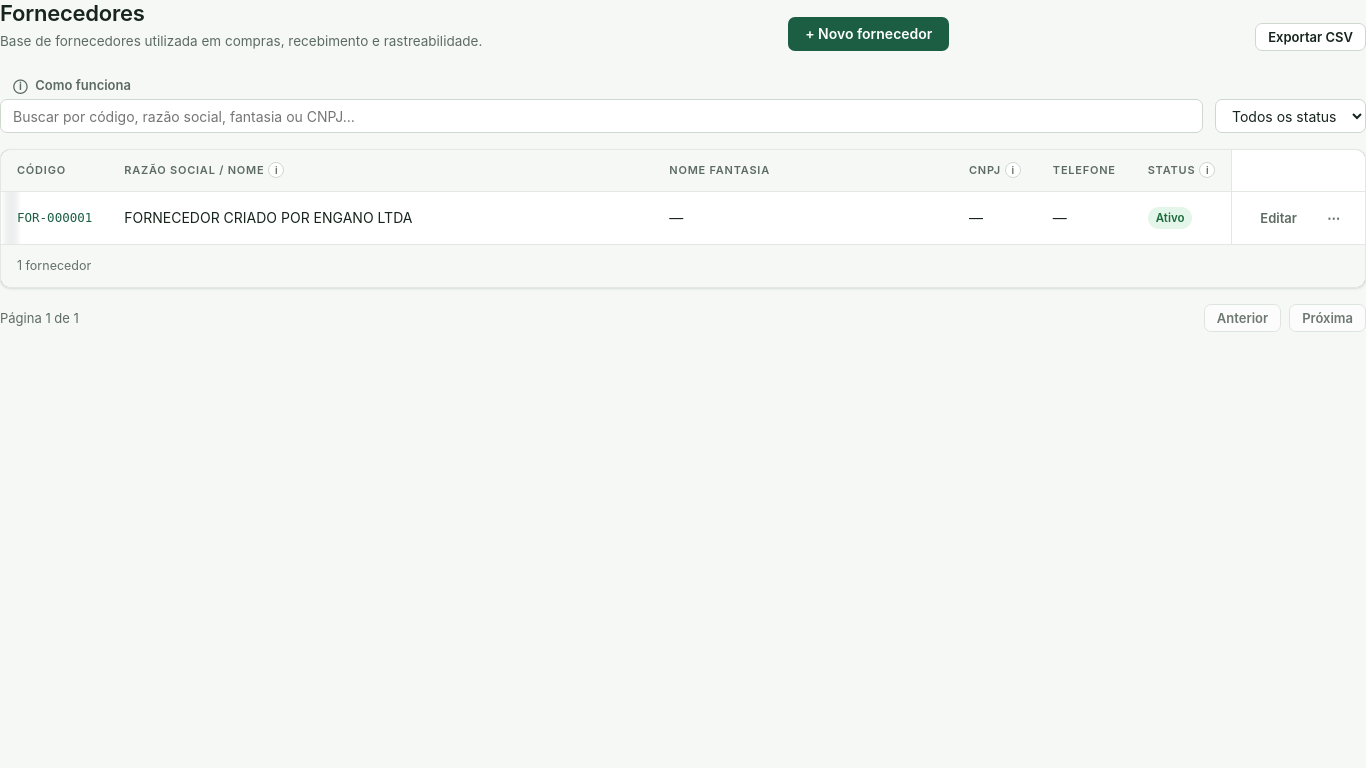
Administrador › liberado: motivo, exclusão, aviso e lista recarregada
The width and height of the screenshot is (1366, 768).
Expected: the text "FOR-000001" is shown, [1,192,108,244]
Click the button named "Mais ações de FOR-000001" at (1334, 218), box [1318,204,1349,232]
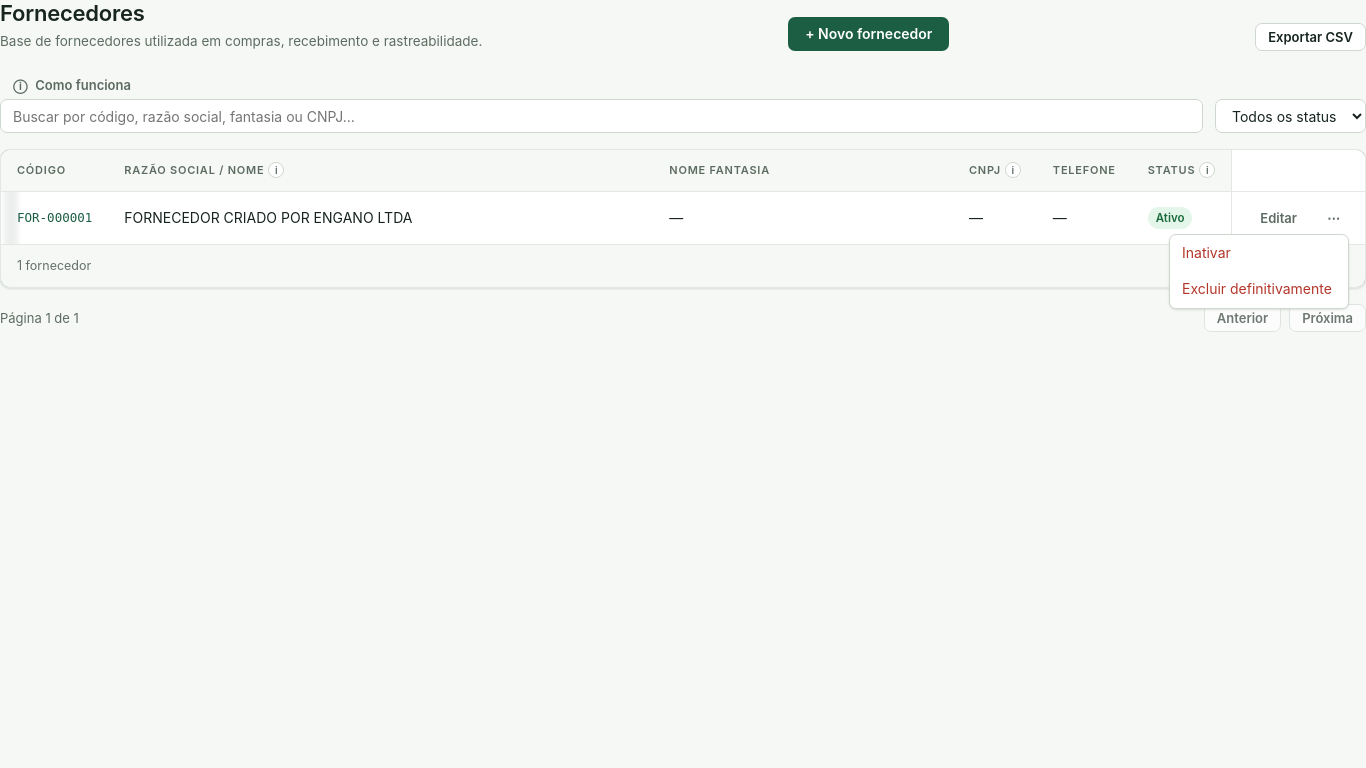
Click the menu item "Excluir definitivamente" at (1259, 289), box [1170,271,1348,308]
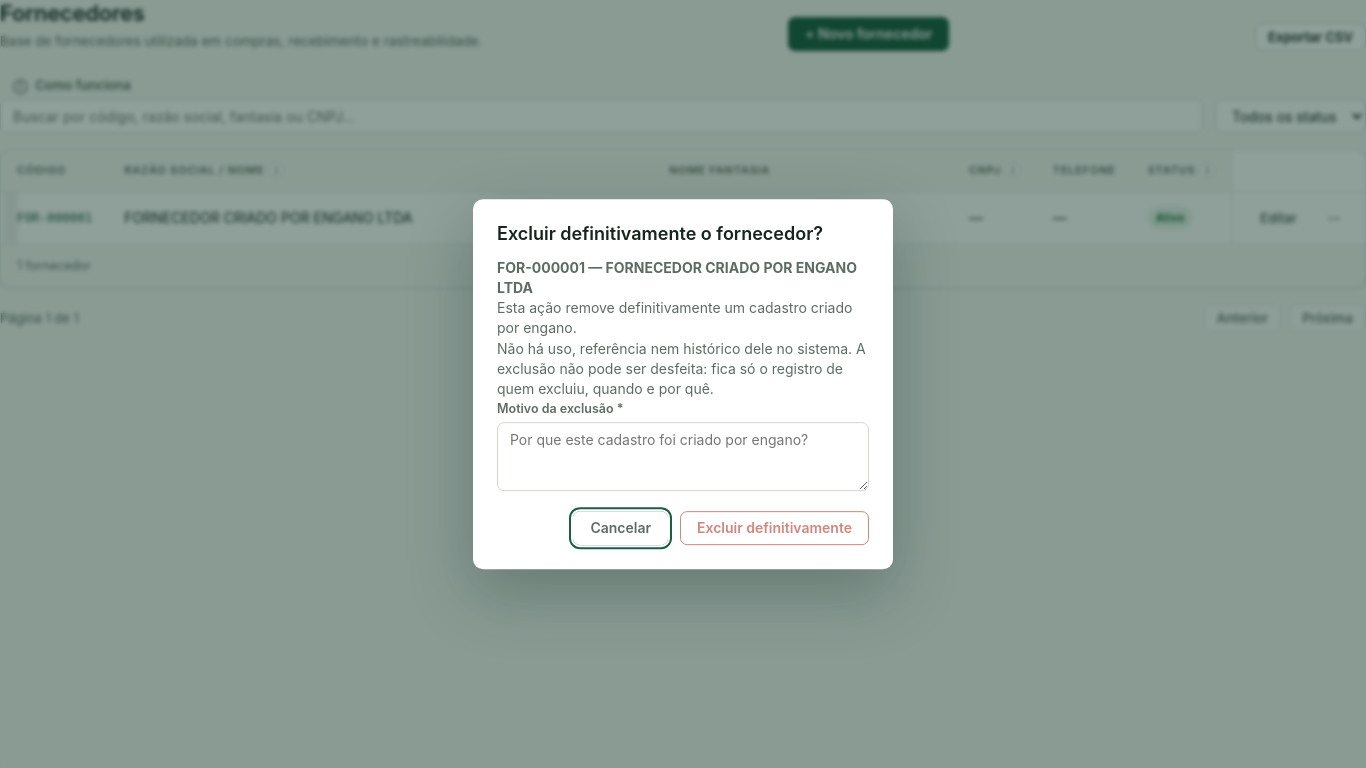
Result: the text "Esta ação remove definitivamente um cadastro criado por engano." is shown at [497,298,869,339]
Type "Cadastrado em duplicidade" into the text box labelled "Motivo da exclusão *" at (683, 456), box [497,422,869,491]
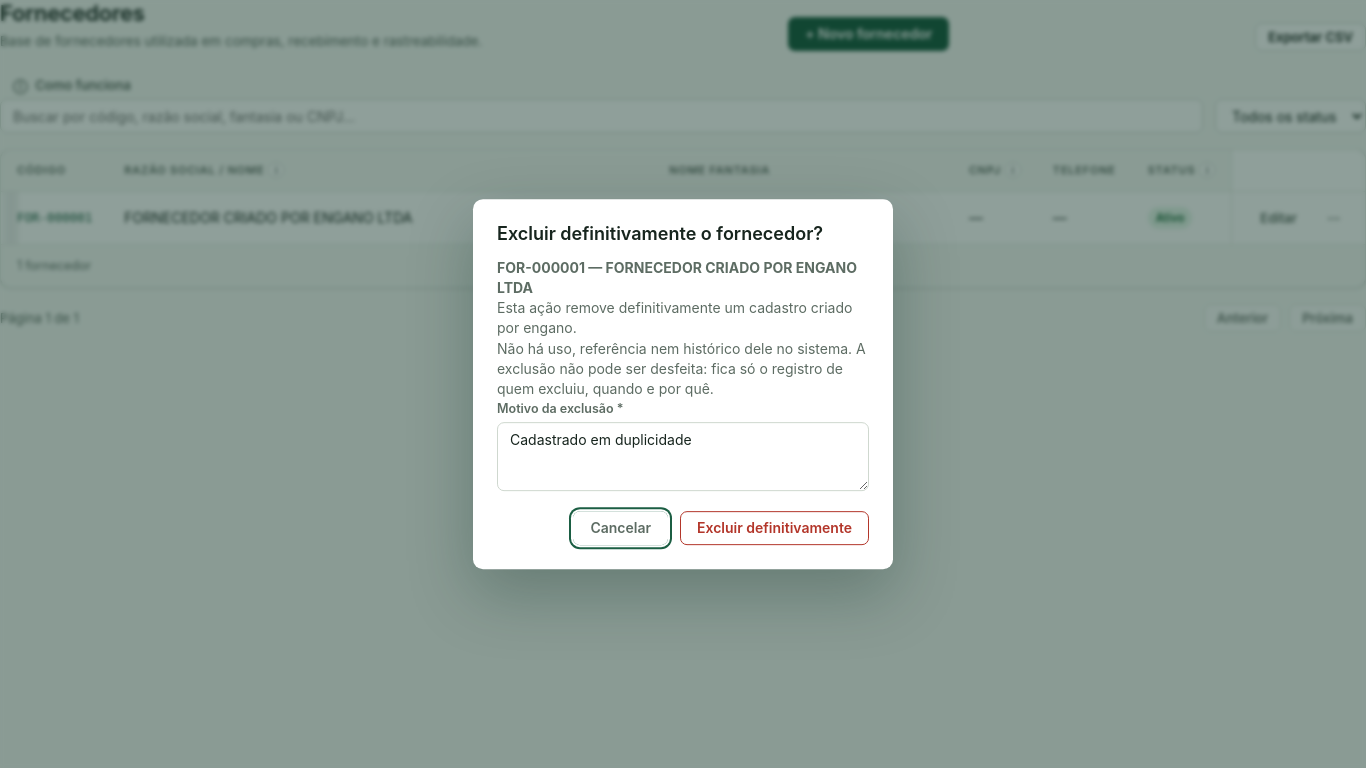
Click the button "Excluir definitivamente" at (774, 528), box [680,511,869,545]
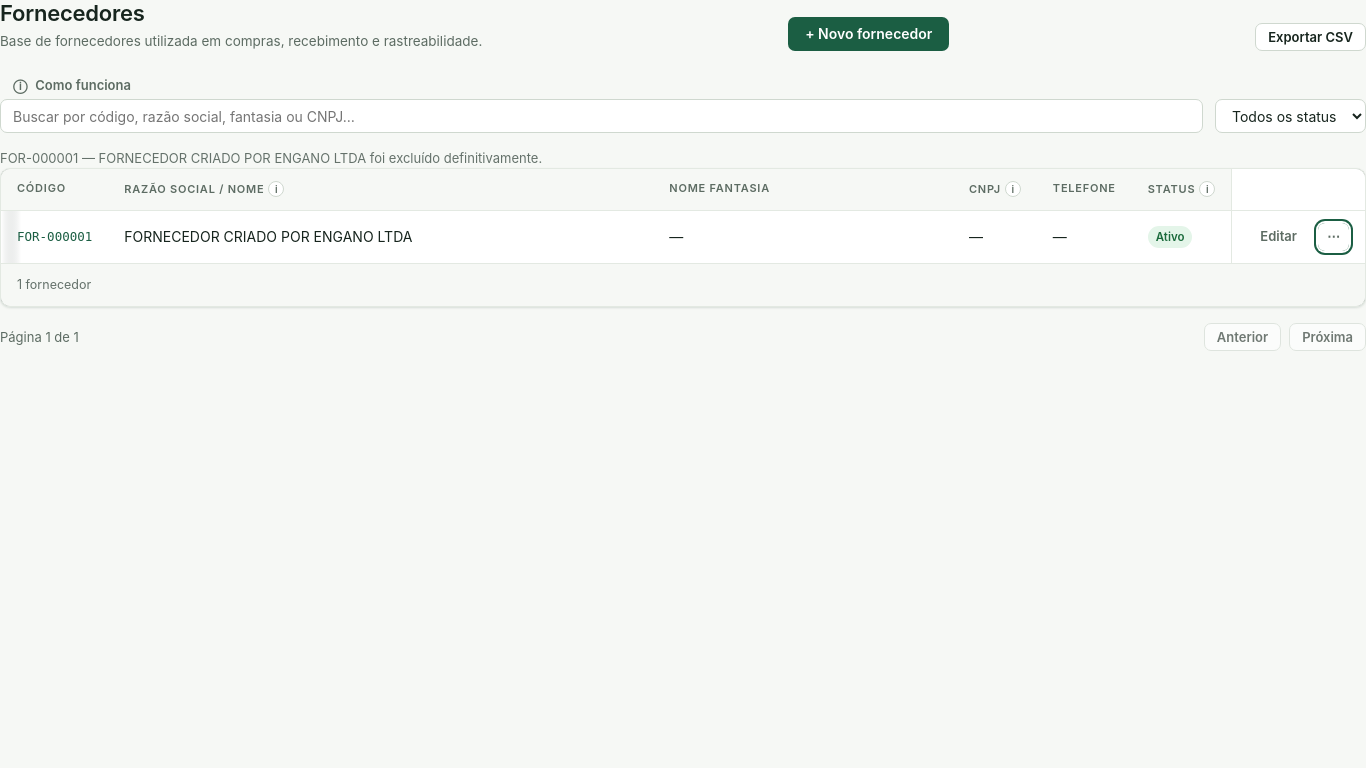
Result: the dialog is gone
